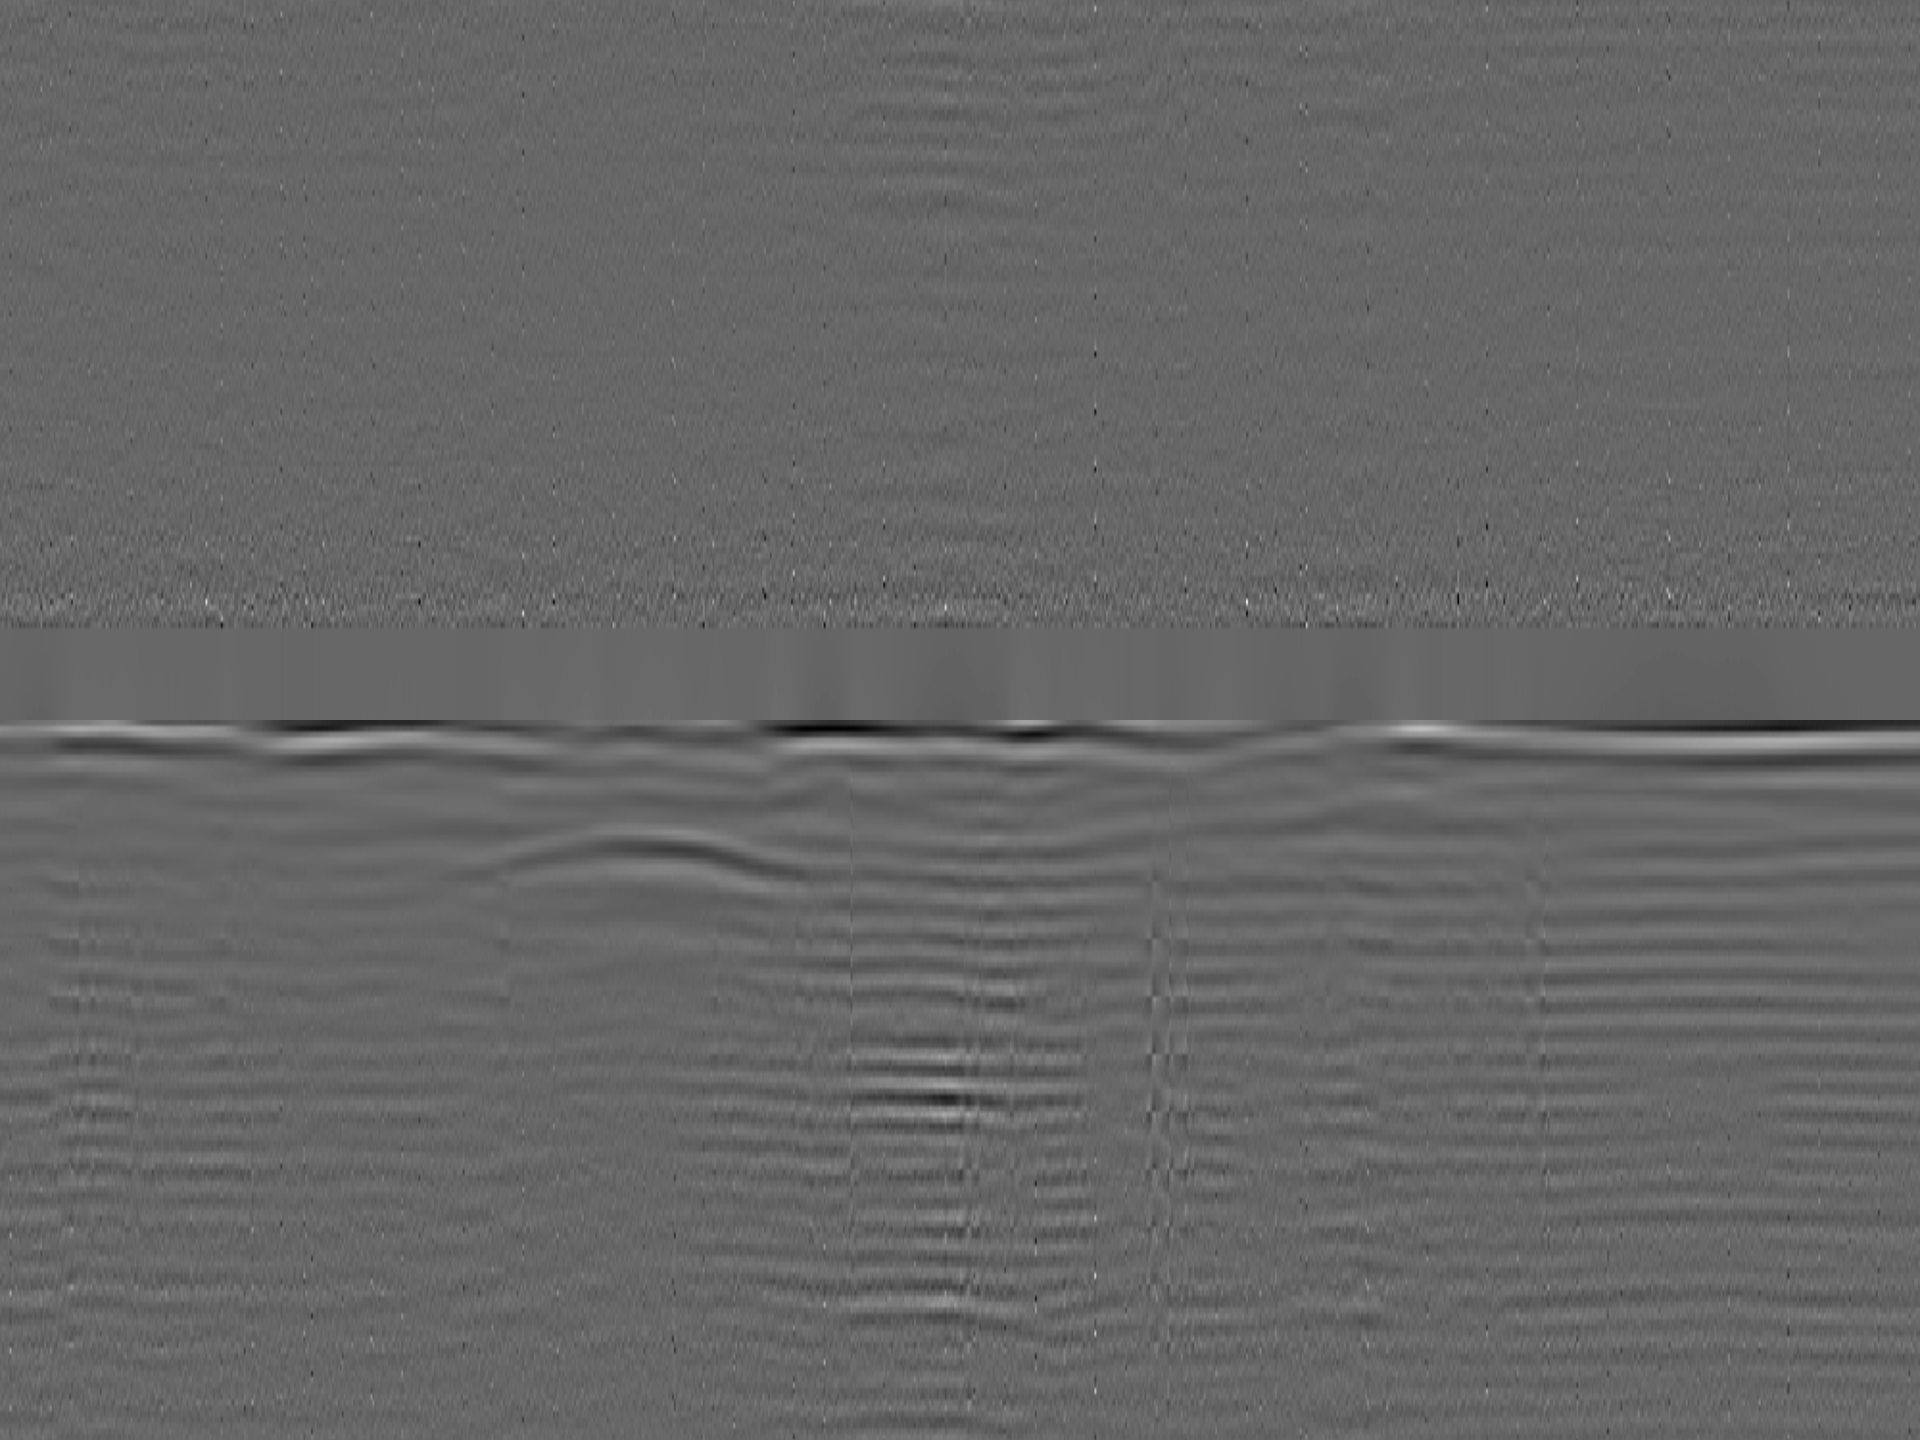Tunnel: (455, 824, 839, 892)
